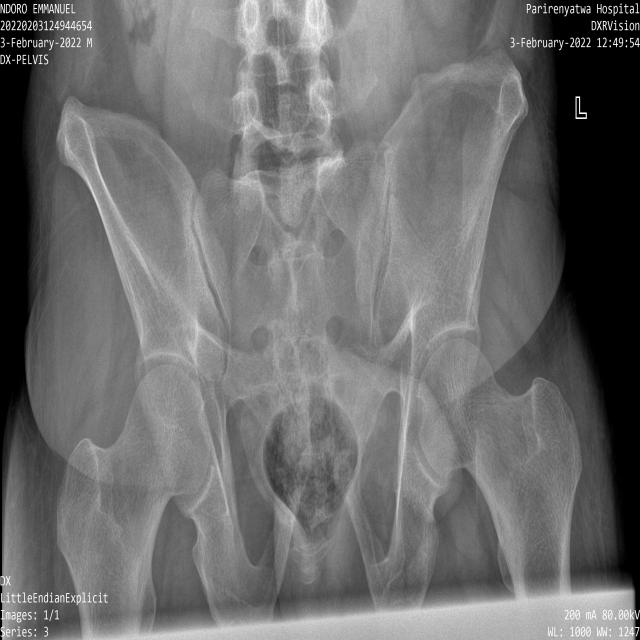normal-left: (416, 338, 584, 600)
normal-right: (56, 364, 210, 639)
